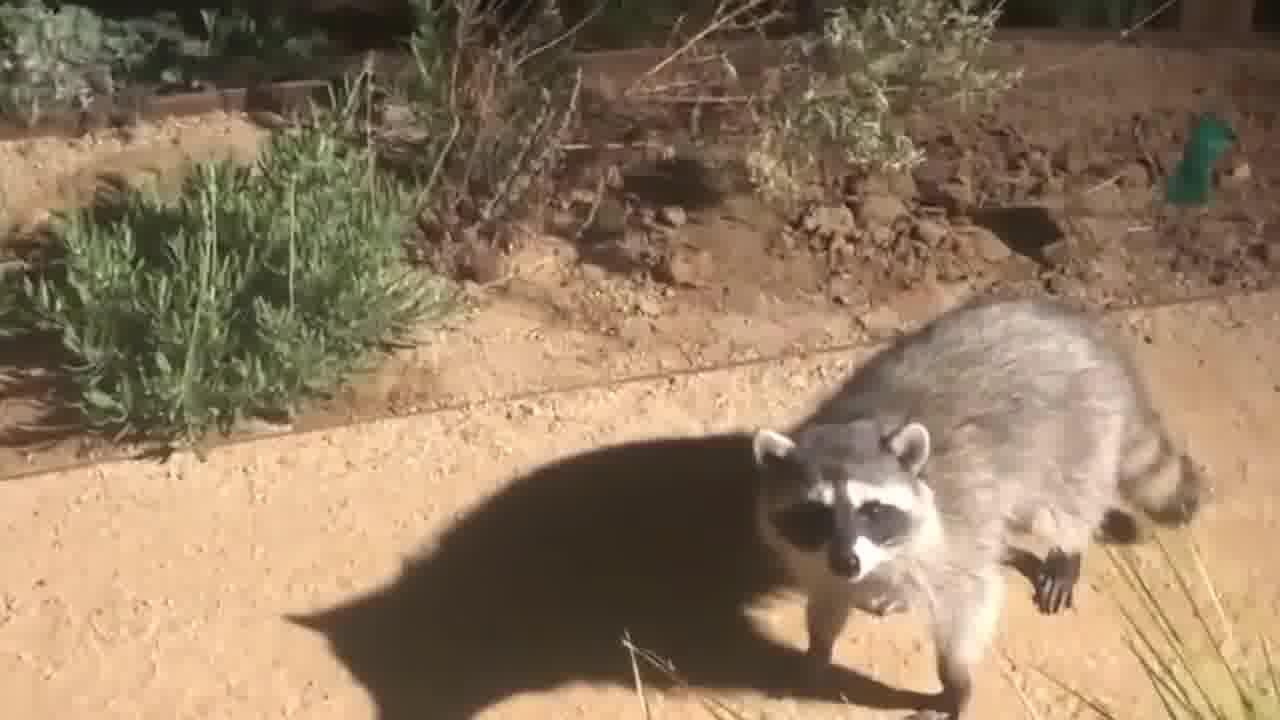raccoon: (752, 299, 1205, 720)
